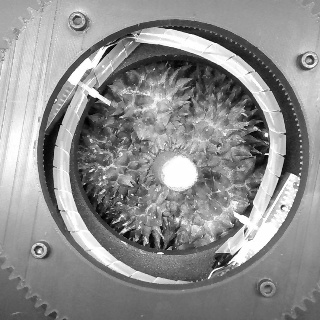base: (140, 141, 194, 197)
end: (160, 154, 199, 192)
